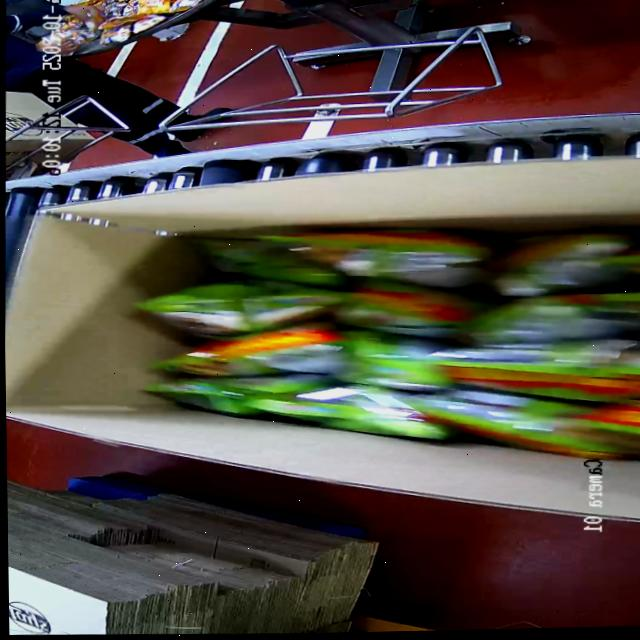YOGURT_HERB: (122, 211, 640, 453)
